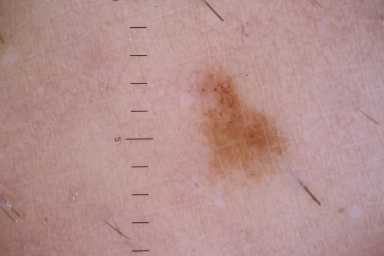melanoma: (211, 83, 290, 181)
